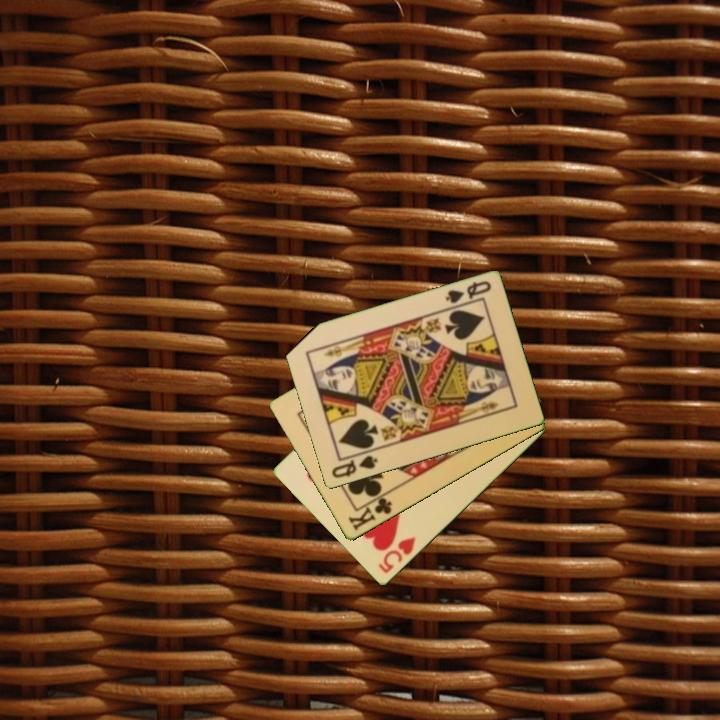5h: (374, 534, 419, 577)
Kc: (345, 490, 395, 534)
Qs: (442, 278, 494, 311), (328, 452, 381, 481)
